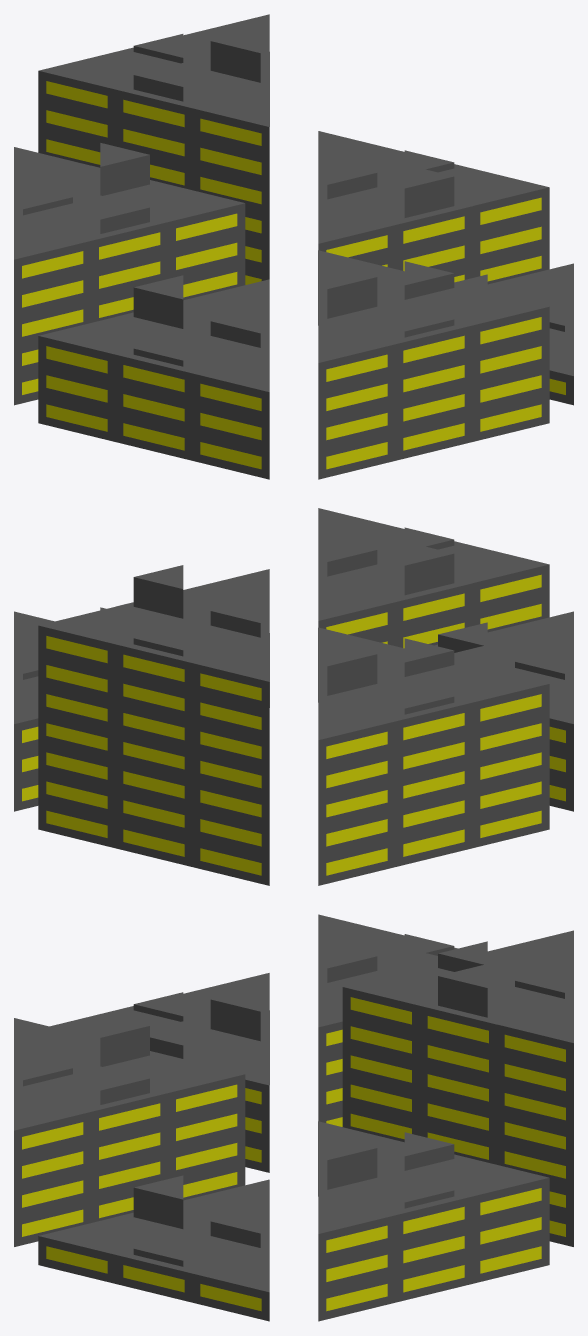
Rendered from House.fbx.
3 renders of one model, top to bottom at view 1: azimuth 30°, elevation 25°; view 2: azimuth 150°, elevation 25°; view 3: azimuth 270°, elevation 25°, orthographic.
Visible parts, largest first — view 1: House; view 2: House; view 3: House.
Part boxes in pixels (bbox=[...]): House: bbox=[14, 14, 573, 479]; House: bbox=[14, 508, 573, 885]; House: bbox=[14, 914, 573, 1321].
Bounding box in the file's own units: 1.36 × 0.5664 × 1.23.
